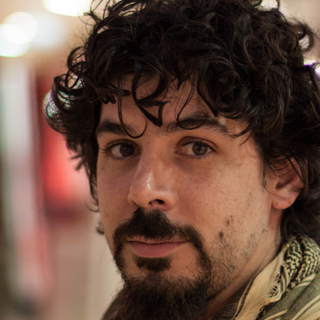eye: (173, 136, 223, 162), (100, 138, 143, 162)
